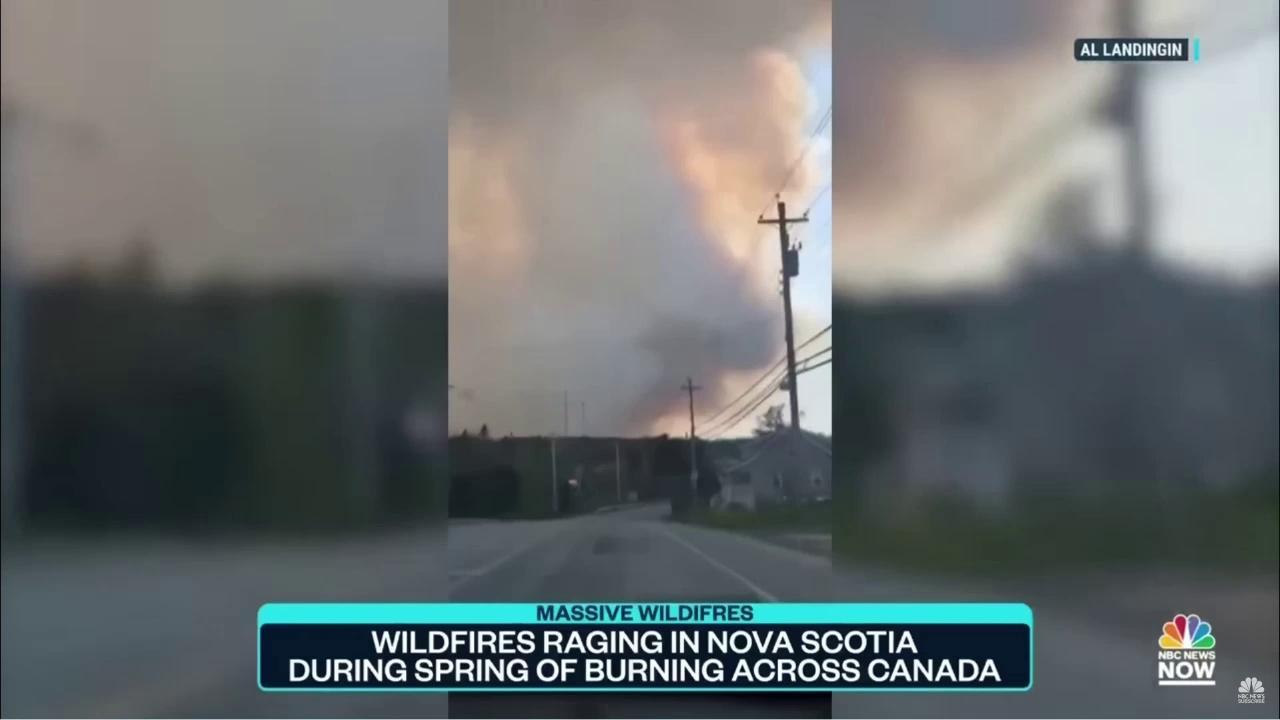smoke: (448, 0, 834, 441)
